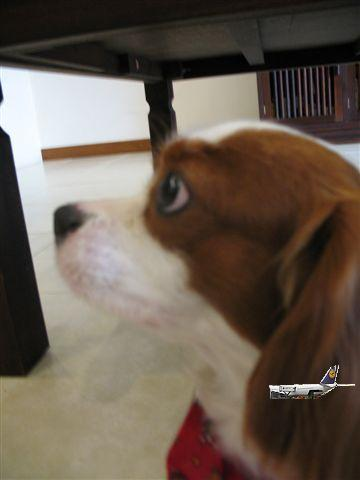tampered: (270, 366, 355, 399)
